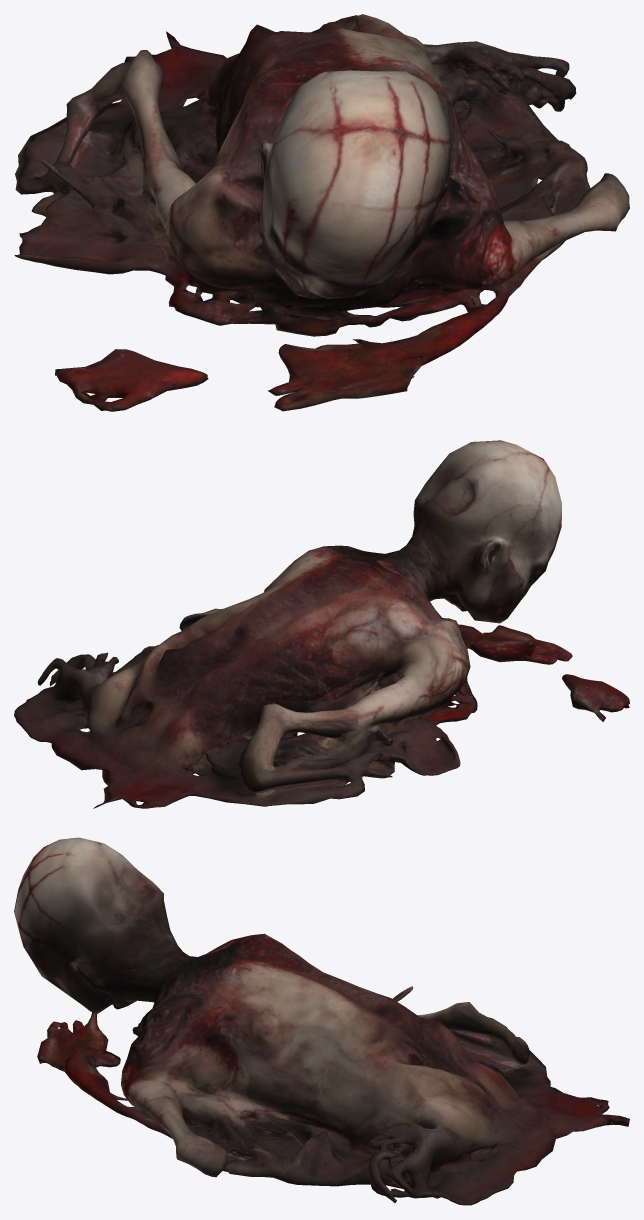
File: corpse1.glb
The picture shows the model from 3 angles, top to bottom: view 1: azimuth 30°, elevation 25°; view 2: azimuth 150°, elevation 25°; view 3: azimuth 270°, elevation 25°; orthographic projection. The views are drawn at different scales.
Bounding box in the file's own units: 1.73 × 0.7321 × 1.92.
Materials: 1 (1 with a texture image).
